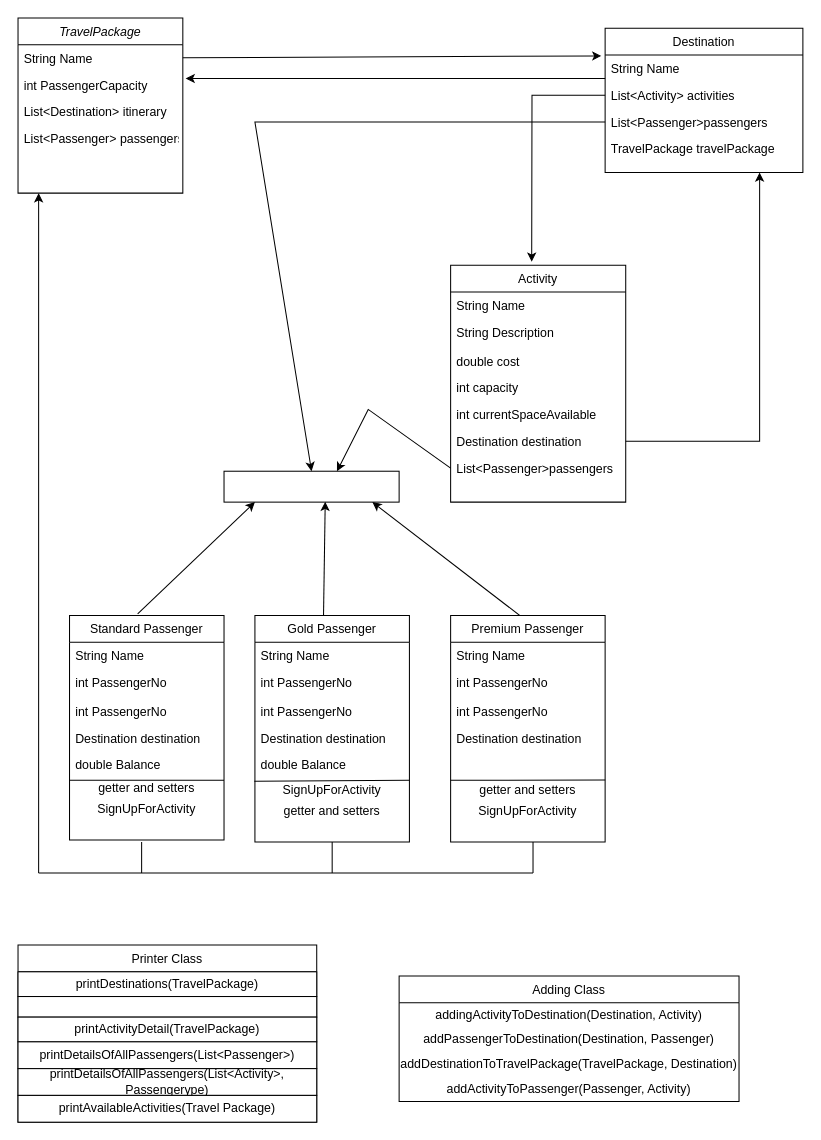
Image size: 821x1140. Some labels were removed from this diagram. The shapes that lost their labels are listed below. From the top down, each one's centre as x and y in pixels, then its label:
the point at 311,486: Passenger (Interface)
the point at 167,1006: printActivityDetail(List<Activity>)
